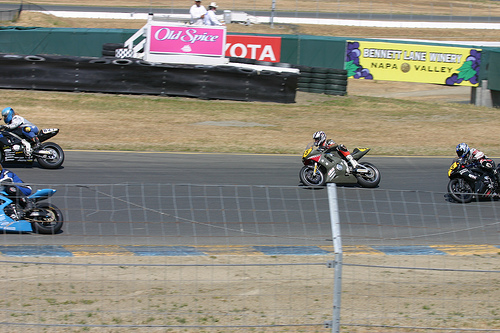helmet: (457, 142, 470, 156), (1, 108, 13, 119), (315, 131, 324, 143)
